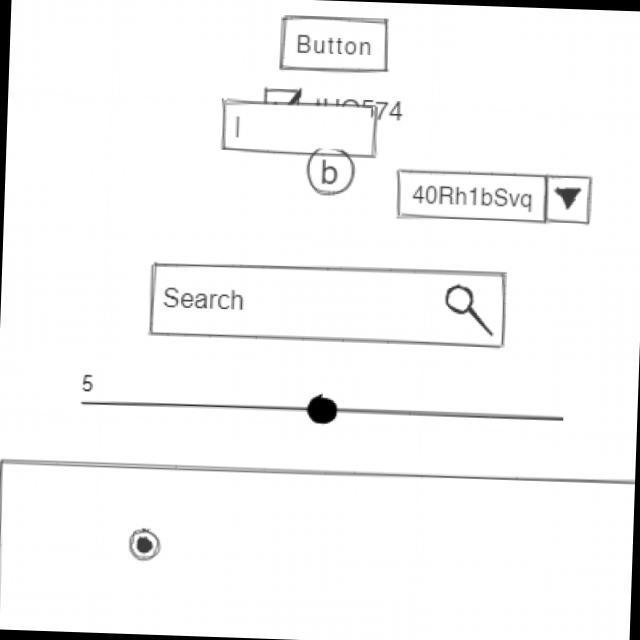button: (278, 14, 392, 76)
container: (1, 454, 636, 640)
icon-button: (305, 146, 358, 199)
input: (218, 97, 381, 161)
radio: (125, 526, 165, 564)
search: (146, 258, 509, 351)
select: (395, 168, 596, 227)
slider: (105, 386, 569, 435)
